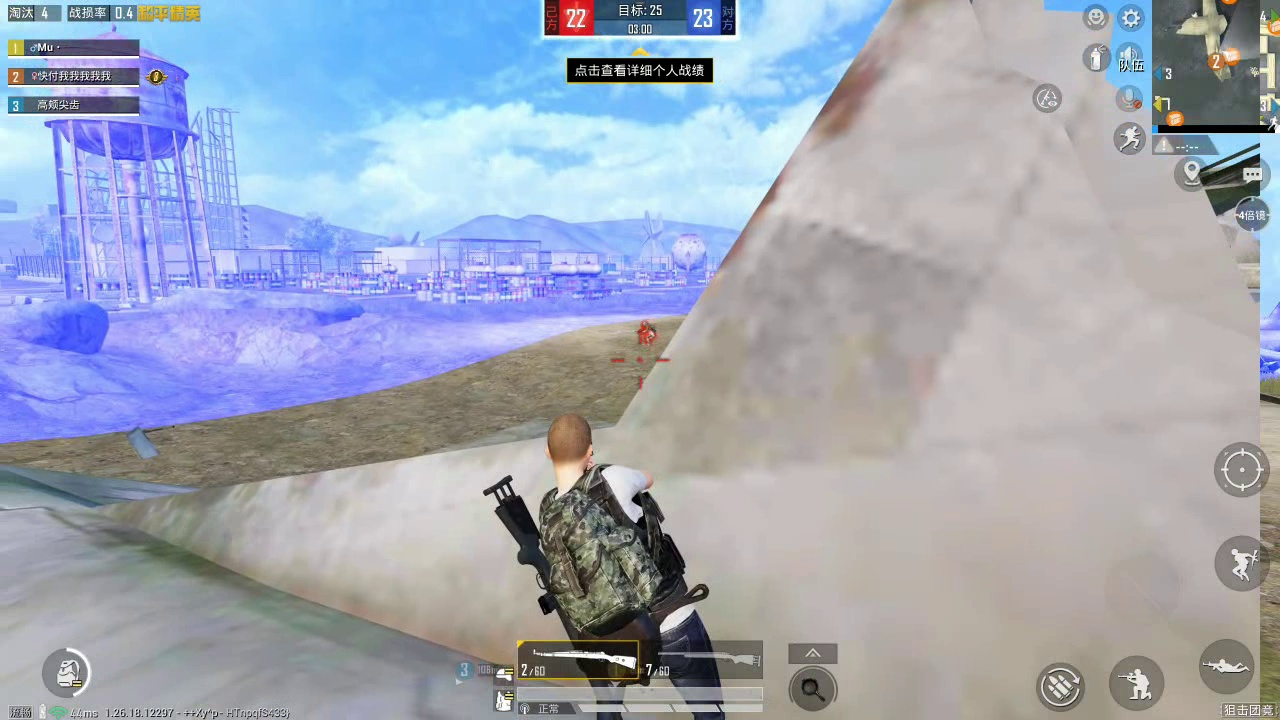enemy: (637, 315, 657, 347)
